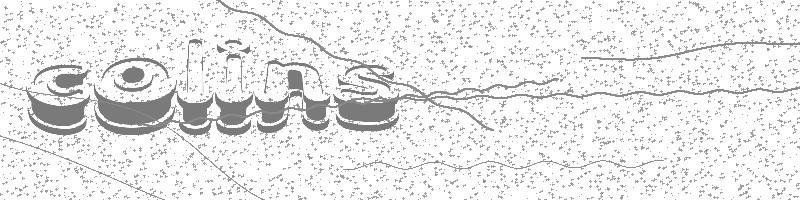c: (93, 55, 175, 132), (26, 60, 89, 136)
i: (213, 34, 252, 136)
l: (176, 37, 214, 137)
n: (249, 55, 333, 133)
s: (331, 60, 401, 132)
